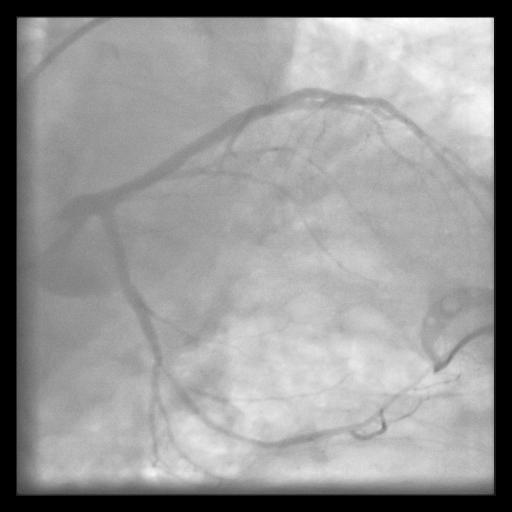Stenosis: (155, 354, 182, 392)
